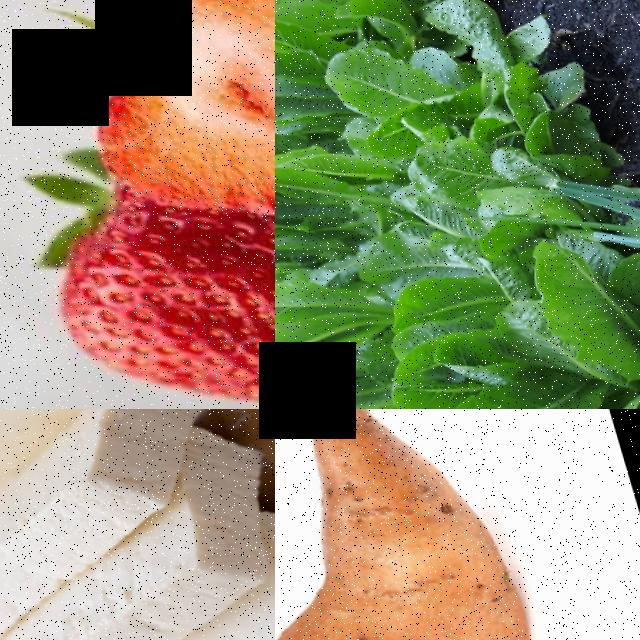spinach: (514, 211, 640, 380), (305, 21, 448, 123), (412, 345, 619, 409), (275, 284, 399, 390), (372, 245, 509, 335), (393, 113, 510, 216), (275, 115, 403, 196), (275, 252, 374, 333), (275, 0, 306, 60)
strawberry: (23, 167, 275, 409), (39, 0, 275, 240)
sweet potato: (275, 409, 631, 640)
tofu: (0, 409, 247, 556), (0, 570, 169, 640)
